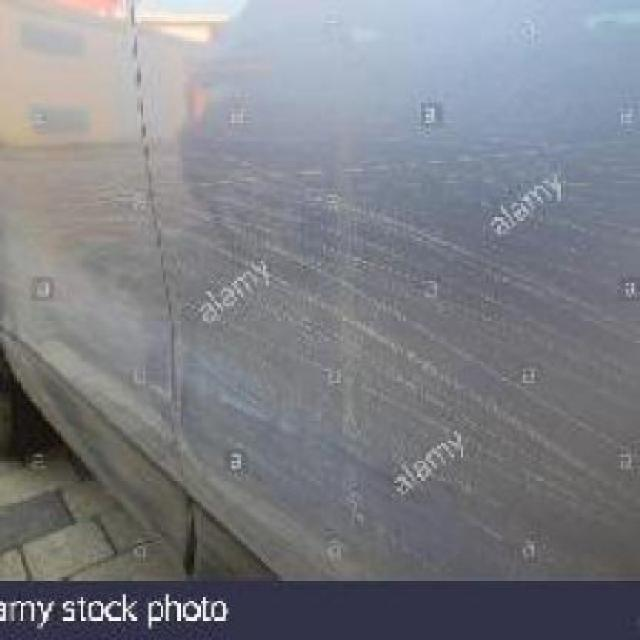dent-or-scratch: (183, 179, 619, 472)
